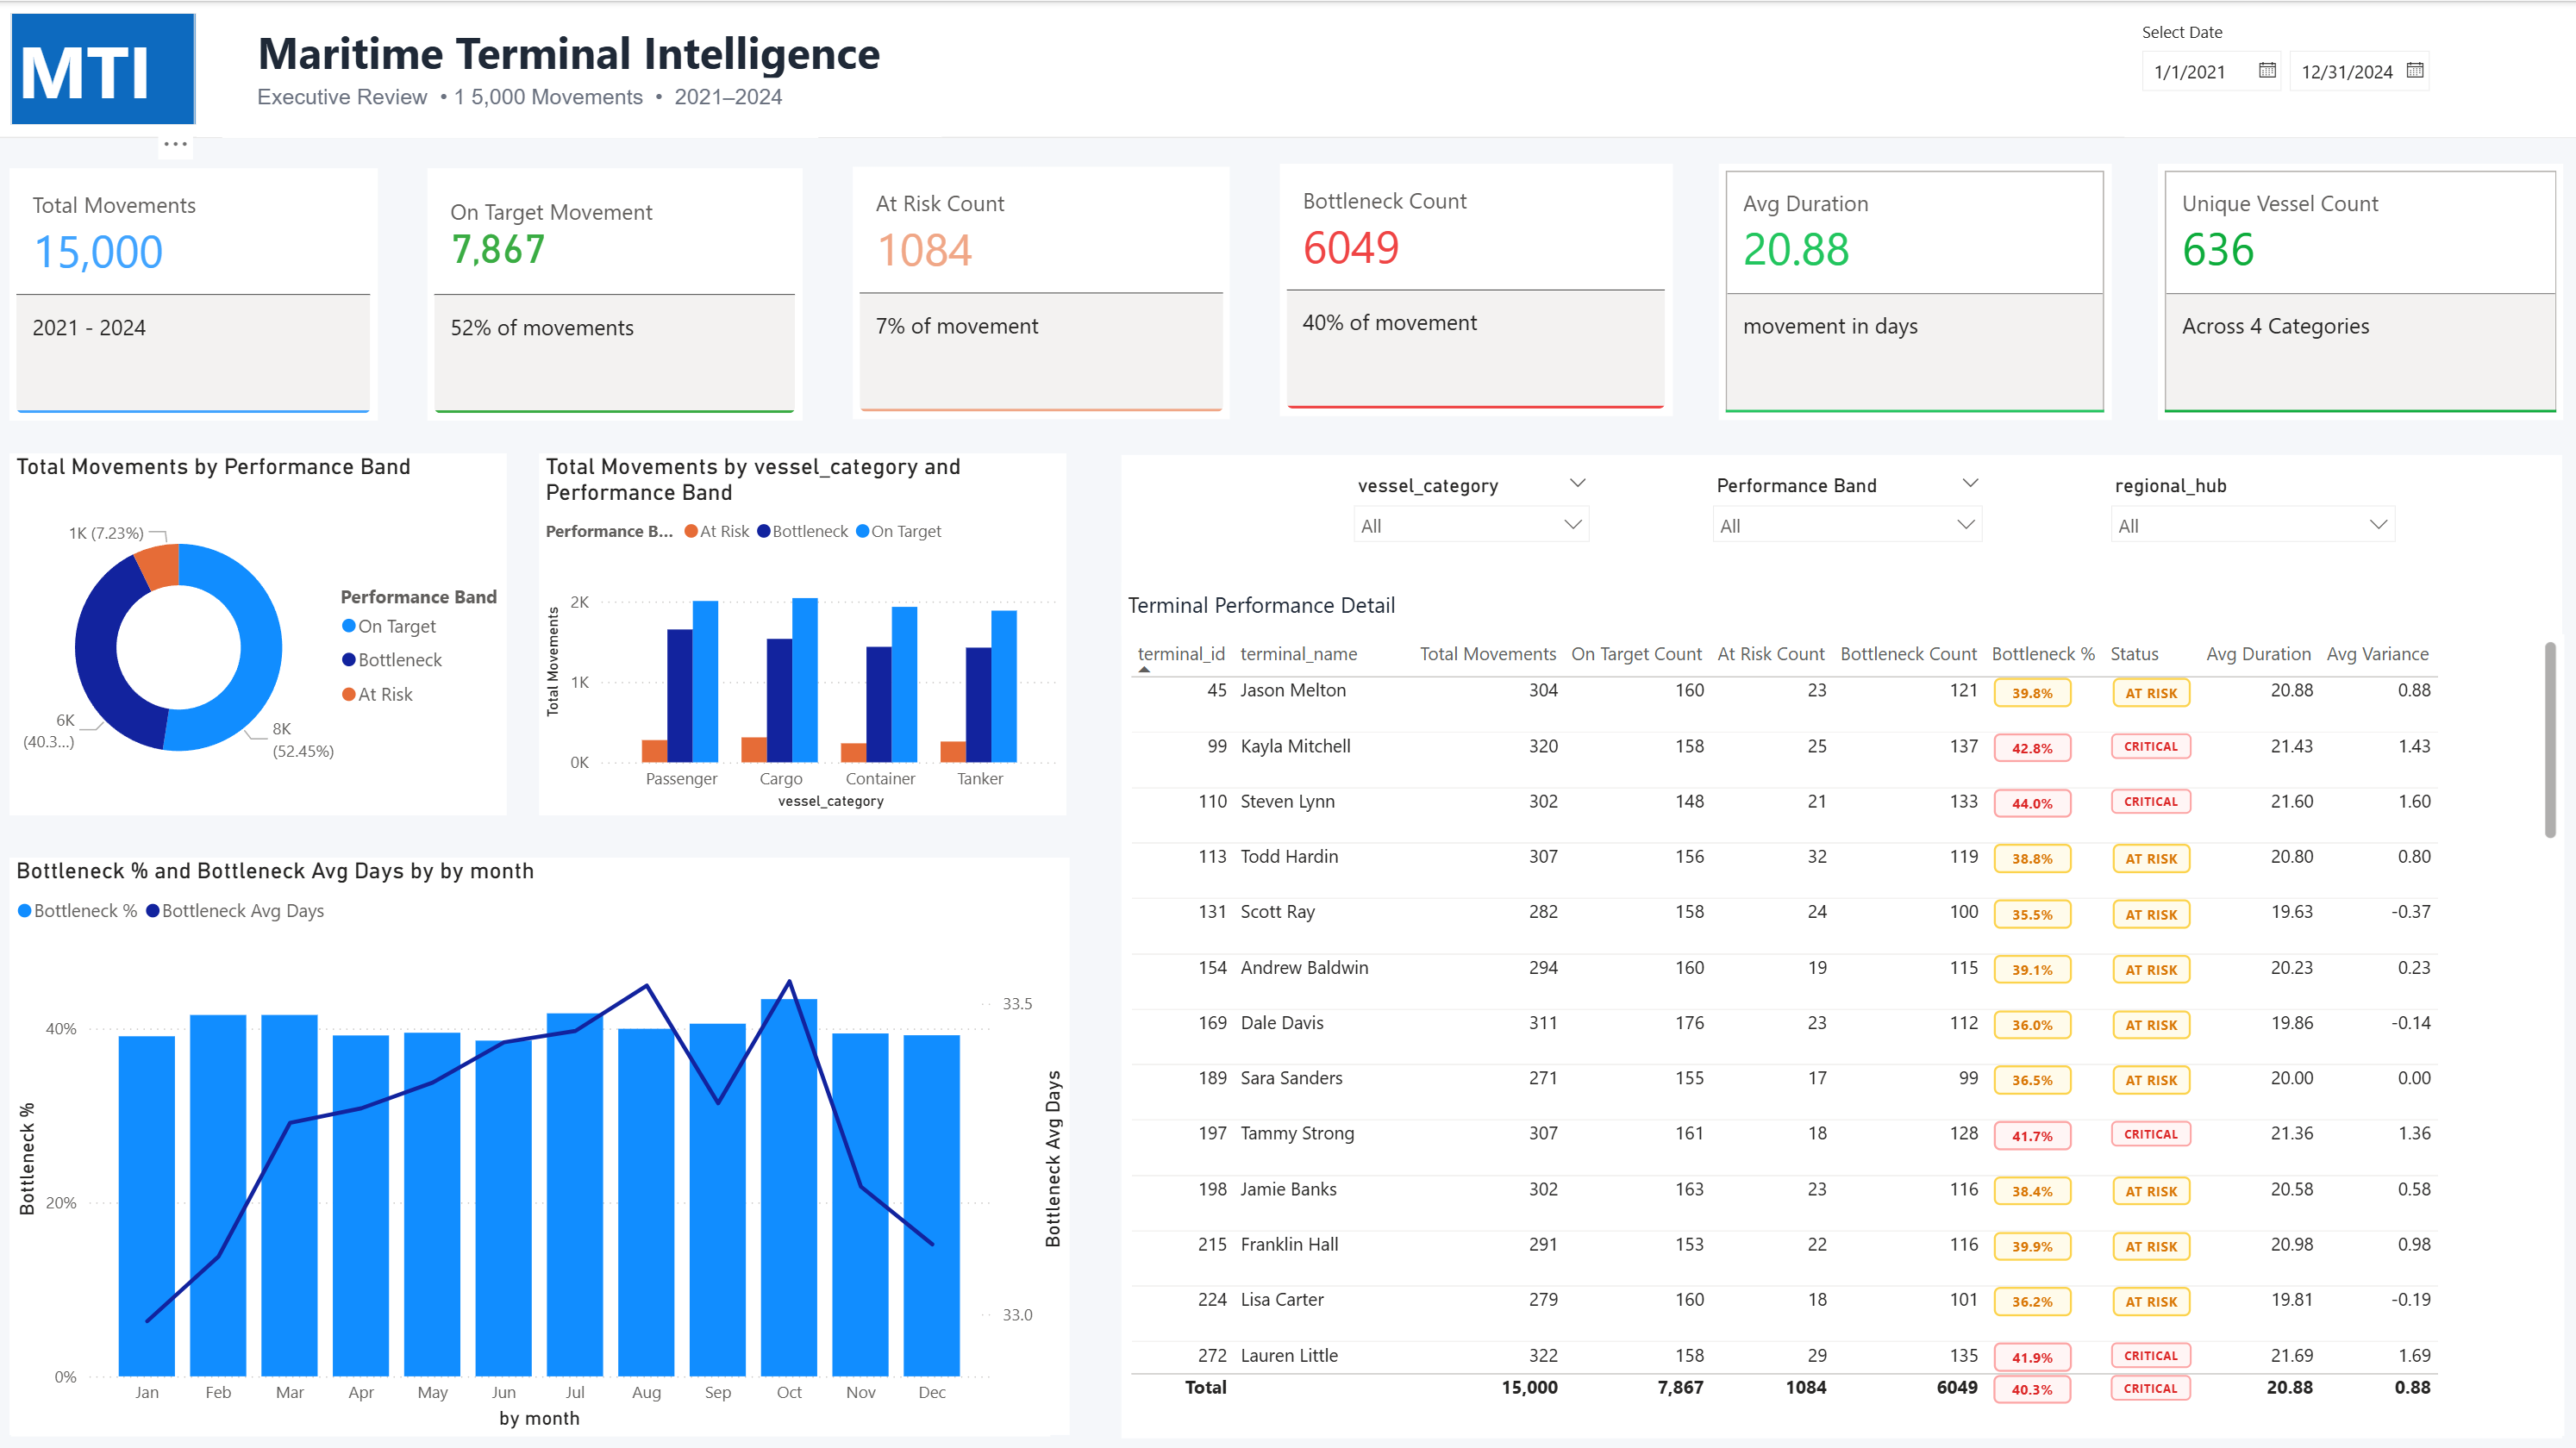

What the dashboard file says about the page in this screenshot:
{"tool":"powerbi","page":{"name":"Page 1","canvas":[1920,1080],"ordinal":0},"visuals":[{"type":"shape","box":[0,0,1919.3,101.6],"z":0},{"type":"shape","box":[831.9,335.7,1066.3,727.9],"z":500},{"type":"cardVisual","fields":{"Data":["dax.Total Movements"]},"box":[9.2,123.7,272.5,186.9],"z":2000},{"type":"cardVisual","fields":{"Data":["dax.On Target Count"]},"box":[318.6,123.7,277.8,186.9],"z":3000},{"type":"donutChart","fields":{"Y":["dax.Total Movements"],"Category":["fact_cargo_movements.Performance Band"]},"box":[9.2,335.2,368.1,268.2],"z":4000},{"type":"clusteredColumnChart","fields":{"Y":["dax.Total Movements"],"Series":["fact_cargo_movements.Performance Band"],"Category":["fact_cargo_movements.vessel_category"]},"box":[400.9,335.2,390.4,268.2],"z":5000},{"type":"columnChart","fields":{"Category":["dim_time.monthname"],"Y":["dax.Total Movements"],"Series":["fact_cargo_movements.Performance Band"]},"box":[9.5,634.8,769.4,427.6],"z":6000},{"type":"lineClusteredColumnComboChart","fields":{"Category":["dim_time.monthname"],"Y":["dax.Bottleneck Rate %"],"Y2":["dax.Bottleneck Avg Days"]},"box":[9,634.4,784.6,427.6],"z":7000},{"type":"tableEx","fields":{"Values":["dim_terminal.terminal_id","dim_terminal.terminal_name","dax.Total Movements","dax.On Target Count","dax.At Risk Count","dax.Bottleneck Count","dax.Status Badge SVG V","dax.Status Badge SVG","dax.Avg Duration","dax.Avg Variance"]},"box":[832.5,468.8,1066.2,593],"z":8000},{"type":"cardVisual","fields":{"Data":["dax.At Risk Count"]},"box":[633.2,122.4,279.1,186.9],"z":9000},{"type":"textbox","box":[147,11.4,551.2,90],"z":10000},{"type":"textbox","box":[169.7,56.9,437.7,44.7],"z":11000},{"type":"slicer","fields":{"Values":["dim_time.date_id"]},"box":[1574.4,9.2,344.9,92.1],"z":12000},{"type":"shape","box":[15.4,11,116.5,78.5],"z":12000,"group":"g1"},{"type":"group","id":"g1","title":"Group 1","box":[10.5,9.2,136.7,82.8],"z":13000},{"type":"textbox","box":[10.5,9.2,136.7,82.8],"z":13000,"group":"g1"},{"type":"cardVisual","fields":{"Data":["dax.Bottleneck Count"]},"box":[949.1,121.1,290.9,186.9],"z":14000},{"type":"cardVisual","fields":{"Data":["dax.Avg Duration"]},"box":[1274.2,121.1,290.9,189.6],"z":15000},{"type":"cardVisual","fields":{"Data":["dax.Unique Vessel Count"]},"box":[1599.4,121.1,300.1,189.6],"z":16000},{"type":"slicer","fields":{"Values":["dim_vessel.vessel_category"]},"box":[993.9,344.9,194.8,85.6],"z":17000},{"type":"slicer","fields":{"Values":["fact_cargo_movements.Performance Band"]},"box":[1259.8,344.9,219.8,86.9],"z":18000},{"type":"textbox","box":[832.1,431.2,1066.1,38.1],"z":19000},{"type":"slicer","fields":{"Values":["dim_terminal.regional_hub"]},"box":[1554.6,344.9,230.4,80.3],"z":20000}]}

Visuals, with their boxes in screenshot pixels (x1, y1, x2, y2), scaled from the page's 1920x1080 canvas onto the 2576x1448 screenshot:
shape: (left=0, top=0, right=2575, bottom=136)
shape: (left=1116, top=450, right=2547, bottom=1426)
cardVisual - dax.Total Movements: (left=12, top=165, right=378, bottom=416)
cardVisual - dax.On Target Count: (left=428, top=165, right=800, bottom=416)
donutChart - dax.Total Movements x fact_cargo_movements.Performance Band: (left=12, top=449, right=506, bottom=809)
clusteredColumnChart - dax.Total Movements x fact_cargo_movements.Performance Band: (left=538, top=449, right=1061, bottom=809)
columnChart - dim_time.monthname x dax.Total Movements: (left=13, top=851, right=1045, bottom=1425)
lineClusteredColumnComboChart - dim_time.monthname x dax.Bottleneck Rate %: (left=12, top=851, right=1065, bottom=1424)
tableEx - dim_terminal.terminal_id x dim_terminal.terminal_name: (left=1117, top=628, right=2548, bottom=1424)
cardVisual - dax.At Risk Count: (left=849, top=164, right=1224, bottom=415)
textbox: (left=197, top=16, right=937, bottom=136)
textbox: (left=228, top=77, right=815, bottom=136)
slicer - dim_time.date_id: (left=2112, top=12, right=2575, bottom=136)
shape: (left=21, top=15, right=177, bottom=120)
"Group 1" group: (left=14, top=12, right=197, bottom=123)
textbox: (left=14, top=12, right=197, bottom=123)
cardVisual - dax.Bottleneck Count: (left=1273, top=162, right=1664, bottom=413)
cardVisual - dax.Avg Duration: (left=1710, top=162, right=2100, bottom=416)
cardVisual - dax.Unique Vessel Count: (left=2146, top=162, right=2548, bottom=416)
slicer - dim_vessel.vessel_category: (left=1334, top=463, right=1595, bottom=577)
slicer - fact_cargo_movements.Performance Band: (left=1691, top=463, right=1985, bottom=579)
textbox: (left=1116, top=578, right=2547, bottom=629)
slicer - dim_terminal.regional_hub: (left=2085, top=463, right=2395, bottom=570)
